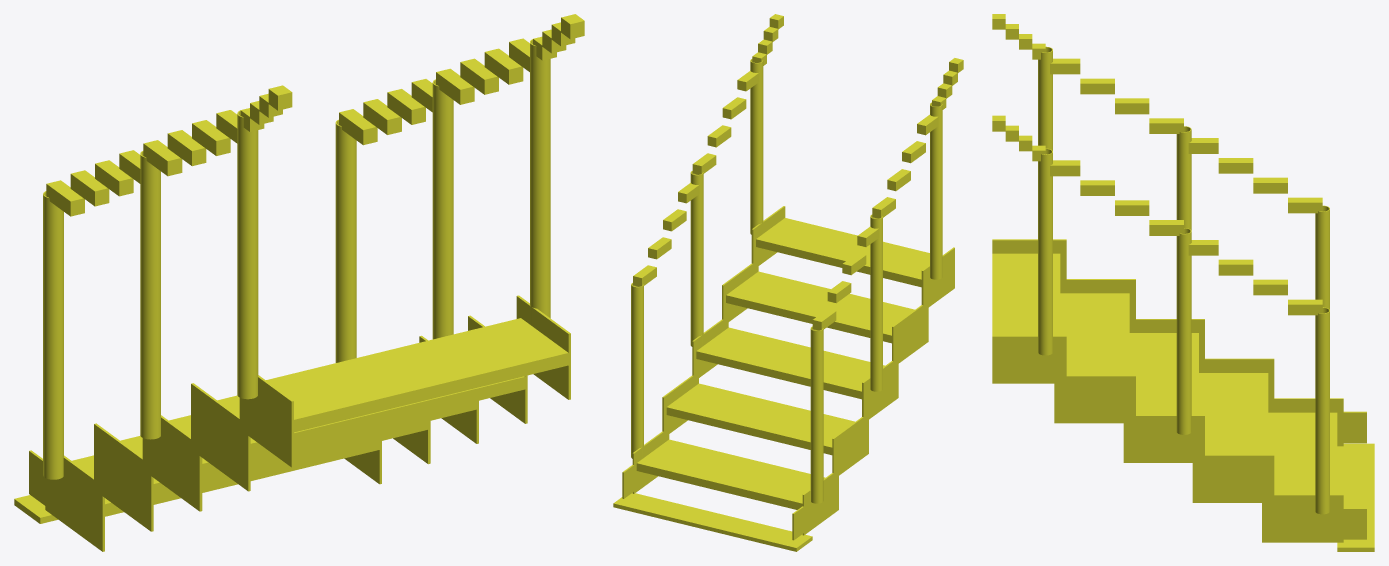
File: PF-C330_emergency_stair_deployed.glb
The picture shows the model from 3 angles, left to right: view 1: azimuth 30°, elevation 25°; view 2: azimuth 150°, elevation 25°; view 3: azimuth 270°, elevation 25°; orthographic projection. The views are drawn at different scales.
Parts seen in each view (by area): view 1: 000 S1 tread 1 PL6 formed channel 280 go, abrasive nosing, 018 S1 handrail post 2 in sch 40 (fold-flat, locking strut), 019 S1 handrail post 2 in sch 40 (fold-flat, locking strut), 020 S1 handrail post 2 in sch 40 (fold-flat, locking strut), 033 S1 handrail post 2 in sch 40 (fold-flat, locking strut), 034 S1 handrail post 2 in sch 40 (fold-flat, locking strut), 035 S1 handrail post 2 in sch 40 (fold-flat, locking strut), 004 S1 stringer PL8x150 A36, 010 S1 stringer PL8x150 A36, 003 S1 tread 2 PL6 formed channel 280 go, abrasive nosing, 007 S1 stringer PL8x150 A36, 013 S1 stringer PL8x150 A36 (+22 smaller); view 2: 012 S1 tread 5 PL6 formed channel 280 go, abrasive nosing, 009 S1 tread 4 PL6 formed channel 280 go, abrasive nosing, 006 S1 tread 3 PL6 formed channel 280 go, abrasive nosing, 003 S1 tread 2 PL6 formed channel 280 go, abrasive nosing, 000 S1 tread 1 PL6 formed channel 280 go, abrasive nosing, 017 S1 foot pad (adjustable +--75), 020 S1 handrail post 2 in sch 40 (fold-flat, locking strut), 034 S1 handrail post 2 in sch 40 (fold-flat, locking strut), 033 S1 handrail post 2 in sch 40 (fold-flat, locking strut), 035 S1 handrail post 2 in sch 40 (fold-flat, locking strut), 018 S1 handrail post 2 in sch 40 (fold-flat, locking strut), 019 S1 handrail post 2 in sch 40 (fold-flat, locking strut) (+10 smaller); view 3: 003 S1 tread 2 PL6 formed channel 280 go, abrasive nosing, 009 S1 tread 4 PL6 formed channel 280 go, abrasive nosing, 000 S1 tread 1 PL6 formed channel 280 go, abrasive nosing, 012 S1 tread 5 PL6 formed channel 280 go, abrasive nosing, 006 S1 tread 3 PL6 formed channel 280 go, abrasive nosing, 005 S1 stringer PL8x150 A36, 011 S1 stringer PL8x150 A36, 014 S1 stringer PL8x150 A36, 008 S1 stringer PL8x150 A36, 002 S1 stringer PL8x150 A36, 034 S1 handrail post 2 in sch 40 (fold-flat, locking strut), 017 S1 foot pad (adjustable +--75) (+28 smaller).
Boxes of the visible parts, x1=… form: 000 S1 tread 1 PL6 formed channel 280 go, abrasive nosing: x1=266, y1=318, x2=568, y2=432; 018 S1 handrail post 2 in sch 40 (fold-flat, locking strut): x1=237, y1=110, x2=258, y2=399; 019 S1 handrail post 2 in sch 40 (fold-flat, locking strut): x1=140, y1=151, x2=160, y2=439; 020 S1 handrail post 2 in sch 40 (fold-flat, locking strut): x1=43, y1=191, x2=63, y2=479; 033 S1 handrail post 2 in sch 40 (fold-flat, locking strut): x1=530, y1=39, x2=550, y2=325; 034 S1 handrail post 2 in sch 40 (fold-flat, locking strut): x1=432, y1=79, x2=453, y2=339; 035 S1 handrail post 2 in sch 40 (fold-flat, locking strut): x1=335, y1=119, x2=356, y2=362; 004 S1 stringer PL8x150 A36: x1=191, y1=383, x2=250, y2=491; 010 S1 stringer PL8x150 A36: x1=94, y1=423, x2=153, y2=531; 003 S1 tread 2 PL6 formed channel 280 go, abrasive nosing: x1=217, y1=376, x2=525, y2=456; 007 S1 stringer PL8x150 A36: x1=142, y1=415, x2=202, y2=511; 013 S1 stringer PL8x150 A36: x1=45, y1=455, x2=104, y2=551; 012 S1 tread 5 PL6 formed channel 280 go, abrasive nosing: x1=636, y1=439, x2=825, y2=509; 009 S1 tread 4 PL6 formed channel 280 go, abrasive nosing: x1=666, y1=383, x2=854, y2=455; 006 S1 tread 3 PL6 formed channel 280 go, abrasive nosing: x1=696, y1=327, x2=884, y2=399; 003 S1 tread 2 PL6 formed channel 280 go, abrasive nosing: x1=726, y1=271, x2=914, y2=343; 000 S1 tread 1 PL6 formed channel 280 go, abrasive nosing: x1=756, y1=218, x2=929, y2=287; 017 S1 foot pad (adjustable +--75): x1=613, y1=493, x2=812, y2=551; 020 S1 handrail post 2 in sch 40 (fold-flat, locking strut): x1=810, y1=326, x2=823, y2=503; 034 S1 handrail post 2 in sch 40 (fold-flat, locking strut): x1=690, y1=171, x2=703, y2=346; 033 S1 handrail post 2 in sch 40 (fold-flat, locking strut): x1=750, y1=59, x2=763, y2=234; 035 S1 handrail post 2 in sch 40 (fold-flat, locking strut): x1=631, y1=283, x2=643, y2=458; 018 S1 handrail post 2 in sch 40 (fold-flat, locking strut): x1=930, y1=102, x2=942, y2=279; 019 S1 handrail post 2 in sch 40 (fold-flat, locking strut): x1=870, y1=214, x2=882, y2=391; 003 S1 tread 2 PL6 formed channel 280 go, abrasive nosing: x1=1060, y1=293, x2=1129, y2=375; 009 S1 tread 4 PL6 formed channel 280 go, abrasive nosing: x1=1199, y1=373, x2=1268, y2=454; 000 S1 tread 1 PL6 formed channel 280 go, abrasive nosing: x1=992, y1=253, x2=1060, y2=335; 012 S1 tread 5 PL6 formed channel 280 go, abrasive nosing: x1=1268, y1=412, x2=1337, y2=494; 006 S1 tread 3 PL6 formed channel 280 go, abrasive nosing: x1=1129, y1=333, x2=1198, y2=415; 005 S1 stringer PL8x150 A36: x1=1054, y1=375, x2=1135, y2=423; 011 S1 stringer PL8x150 A36: x1=1192, y1=455, x2=1274, y2=502; 014 S1 stringer PL8x150 A36: x1=1262, y1=494, x2=1343, y2=542; 008 S1 stringer PL8x150 A36: x1=1123, y1=415, x2=1204, y2=462; 002 S1 stringer PL8x150 A36: x1=992, y1=335, x2=1066, y2=383; 034 S1 handrail post 2 in sch 40 (fold-flat, locking strut): x1=1176, y1=228, x2=1191, y2=434; 017 S1 foot pad (adjustable +--75): x1=1337, y1=443, x2=1374, y2=551.
Size of the model in its own units: 1034 by 1930 by 1545.
